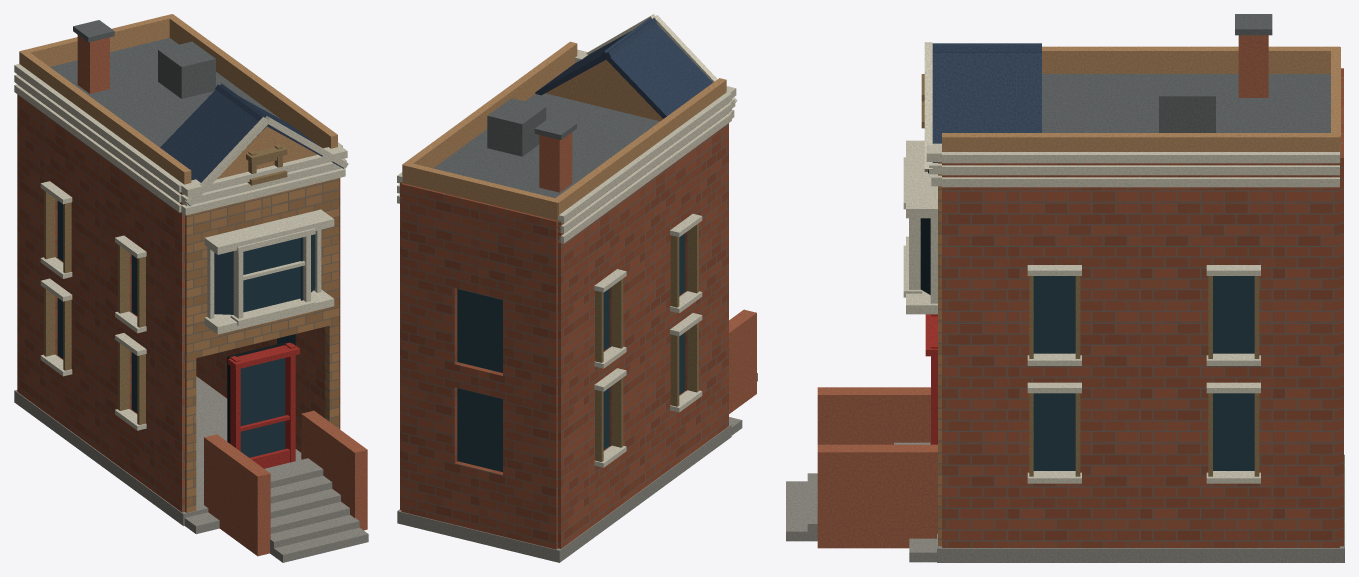
File: VICT2B_lod2.glb
The picture shows the model from 3 angles, left to right: view 1: azimuth 30°, elevation 25°; view 2: azimuth 150°, elevation 25°; view 3: azimuth 270°, elevation 25°; orthographic projection. The views are drawn at different scales.
Parts seen in each view (by area): view 1: VICT2B_LOD2; view 2: VICT2B_LOD2; view 3: VICT2B_LOD2.
Boxes of the visible parts, bbox=[...] form: VICT2B_LOD2: bbox=[14, 14, 368, 562]; VICT2B_LOD2: bbox=[397, 14, 757, 562]; VICT2B_LOD2: bbox=[786, 14, 1344, 562].
Bounding box in the file's own units: 3.71 × 7.86 × 8.43.
Materials: 12 (10 with a texture image).
